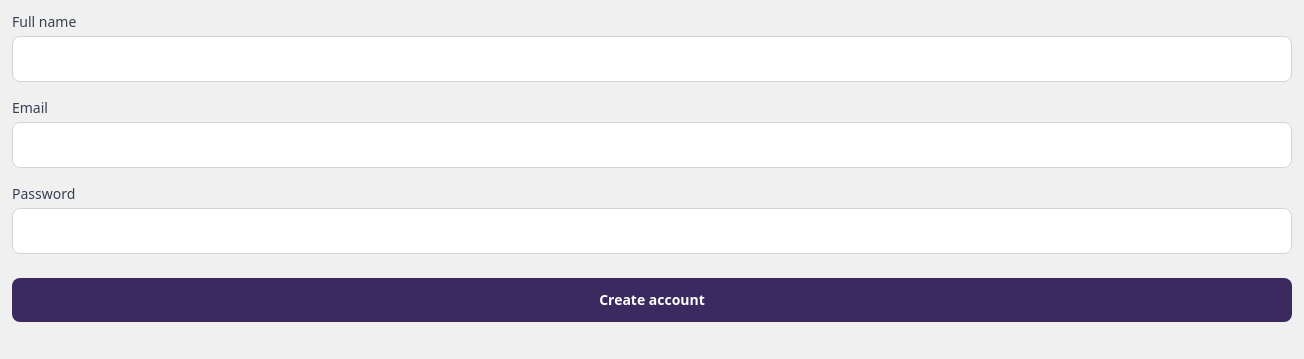
Scenario: RegisterForm › shows validation error when full name is empty
Type "user@example.com" into the field labelled "Email". click: coordinates (652, 145)
box: [12,122,1292,168]
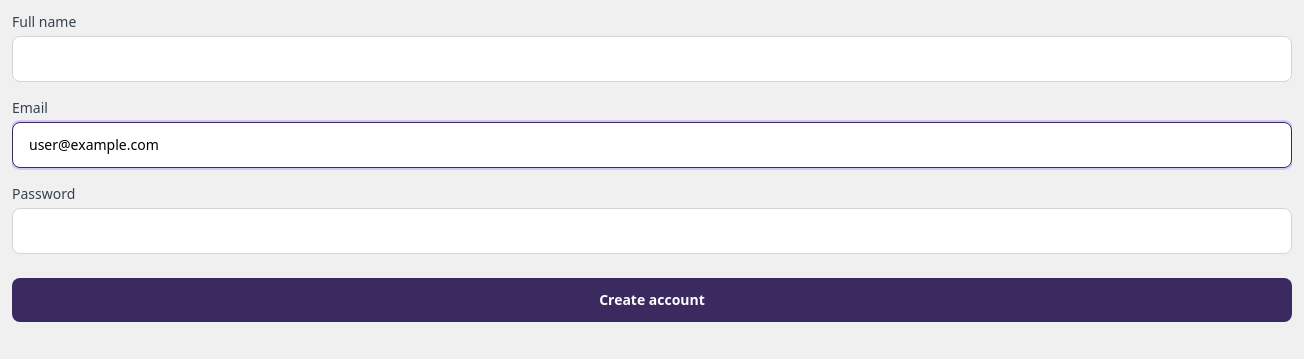
Type "password123" into the password field labelled "Password". click: coordinates (652, 231)
box: [12,208,1292,254]
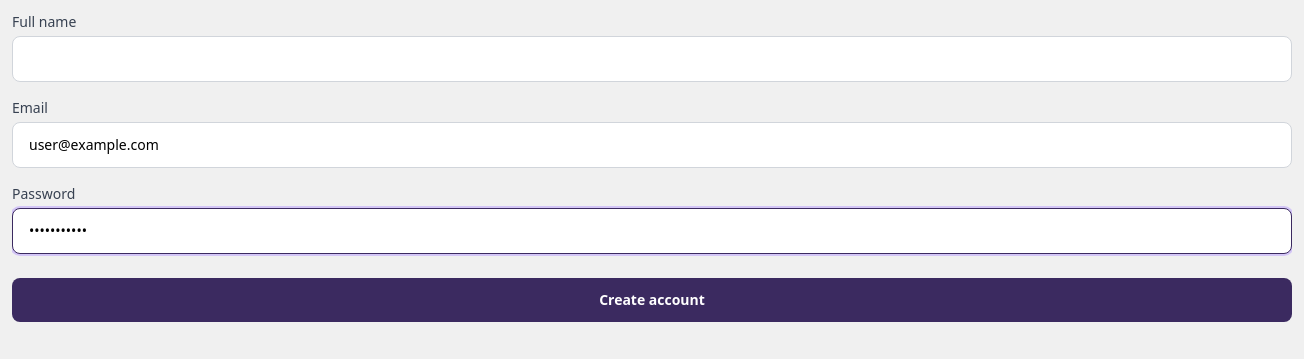
Click the button "Create account". click: coordinates (652, 300)
box: [12,278,1292,322]
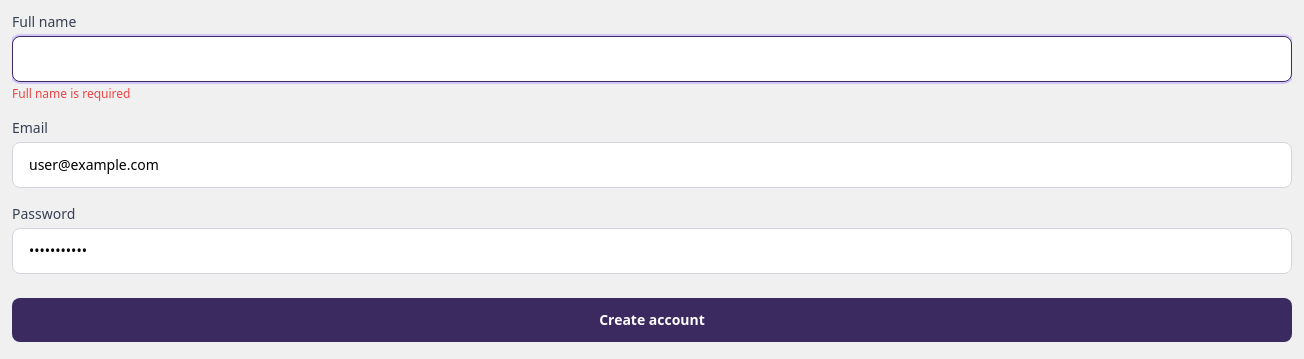
Expected: the text "Full name is required" is shown, [12,85,130,102]
